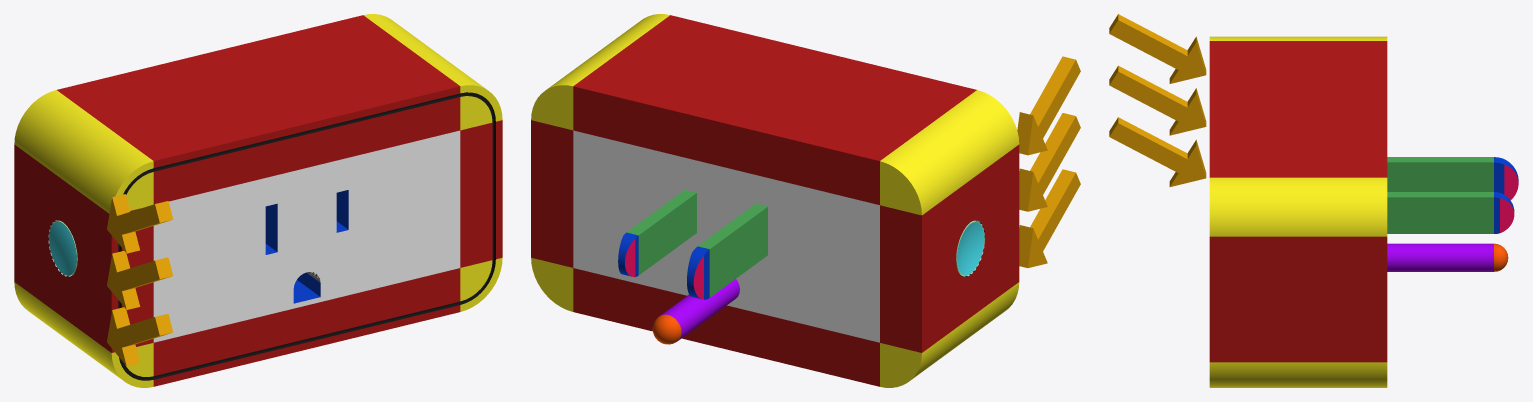
The model's file is Case_Study_SmartSwitch_13.glb.
3 renders of one model, left to right at view 1: azimuth 30°, elevation 25°; view 2: azimuth 150°, elevation 25°; view 3: azimuth 270°, elevation 25°, orthographic. The views are drawn at different scales.
Visible parts, largest first — view 1: Part, Part 5, Part 13, Part 14, Part 2, Part 6, Part 4; view 2: Part, Part 5, Part 13, Part 14, Part 7, Part 8, Part 6, Part 4, Part 10, Part 11; view 3: Part, Part 13, Part 7, Part 14, Part 8, Part 11, Part 6.
Part boxes in pixels (x1=…): Part: x1=14, y1=15, x2=502, y2=386; Part 5: x1=153, y1=130, x2=460, y2=342; Part 13: x1=14, y1=14, x2=502, y2=387; Part 14: x1=107, y1=194, x2=173, y2=366; Part 2: x1=118, y1=92, x2=495, y2=380; Part 6: x1=265, y1=190, x2=348, y2=303; Part 4: x1=49, y1=222, x2=76, y2=275; Part: x1=531, y1=15, x2=1019, y2=386; Part 5: x1=573, y1=130, x2=879, y2=342; Part 13: x1=531, y1=14, x2=1019, y2=387; Part 14: x1=1017, y1=56, x2=1080, y2=267; Part 7: x1=627, y1=190, x2=767, y2=297; Part 8: x1=660, y1=279, x2=739, y2=340; Part 6: x1=618, y1=232, x2=709, y2=299; Part 4: x1=957, y1=222, x2=984, y2=275; Part 10: x1=652, y1=314, x2=681, y2=344; Part 11: x1=625, y1=239, x2=703, y2=299; Part: x1=1209, y1=41, x2=1387, y2=362; Part 13: x1=1209, y1=36, x2=1387, y2=387; Part 7: x1=1387, y1=157, x2=1493, y2=233; Part 14: x1=1109, y1=14, x2=1206, y2=186; Part 8: x1=1387, y1=243, x2=1493, y2=271; Part 11: x1=1500, y1=164, x2=1518, y2=232; Part 6: x1=1494, y1=157, x2=1518, y2=233.
Size of the model in its own units: 0.0749 by 0.0416 by 0.0731.
14 materials, 2 textured.
